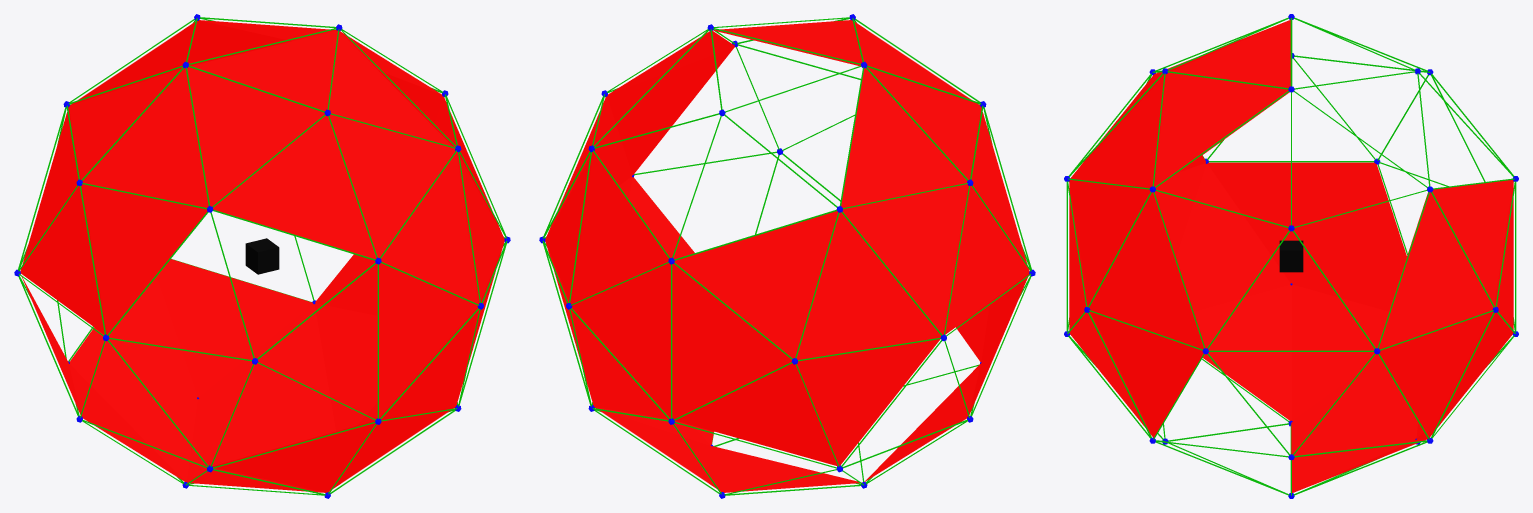
File: IcosahedronPlus.glb
3 views of the same model, side by side, from view 1: azimuth 30°, elevation 25°; view 2: azimuth 150°, elevation 25°; view 3: azimuth 270°, elevation 25° (orthographic). The views are drawn at different scales.
Size of the model in its own units: 1.91 by 1.91 by 1.91.
